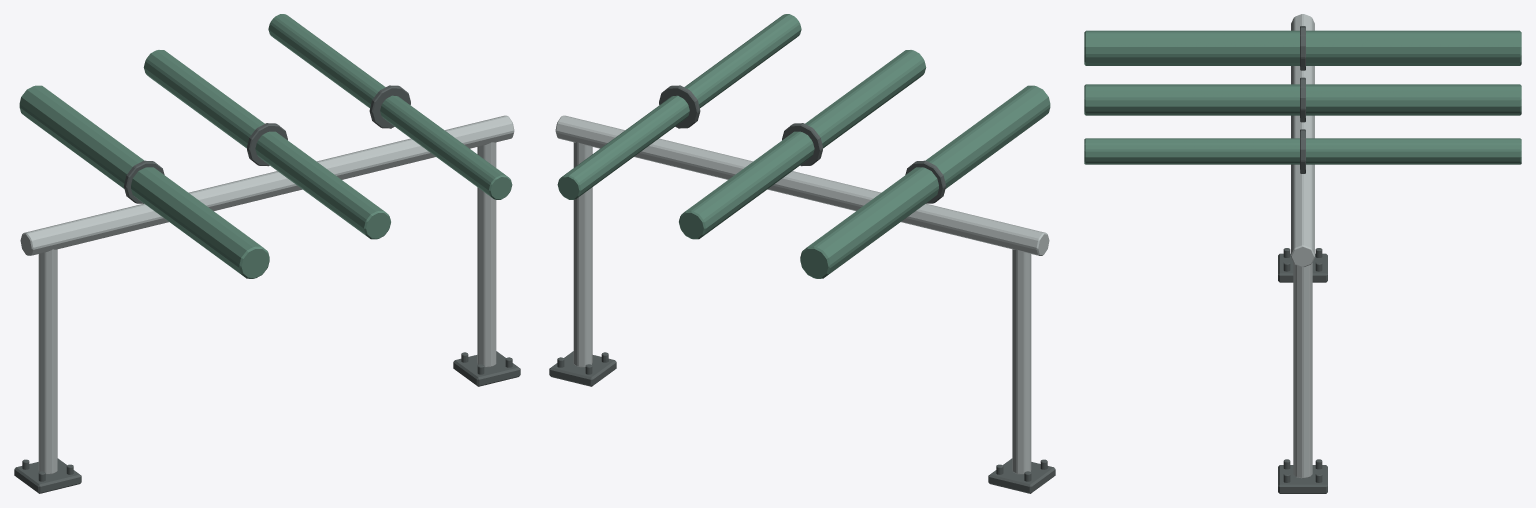
Rendered from runtime.glb.
3 renders of one model, left to right at view 1: azimuth 30°, elevation 25°; view 2: azimuth 150°, elevation 25°; view 3: azimuth 270°, elevation 25°, orthographic.
Visible parts, largest first — view 1: reactor-pipe-support-v01_nocol; view 2: reactor-pipe-support-v01_nocol; view 3: reactor-pipe-support-v01_nocol.
Part boxes in pixels (box(x1,y1,x2,y2)): reactor-pipe-support-v01_nocol: box(14, 14, 520, 493); reactor-pipe-support-v01_nocol: box(549, 14, 1055, 493); reactor-pipe-support-v01_nocol: box(1084, 14, 1521, 493).
Bounding box in the file's own units: 5.28 × 3.25 × 4.2.
